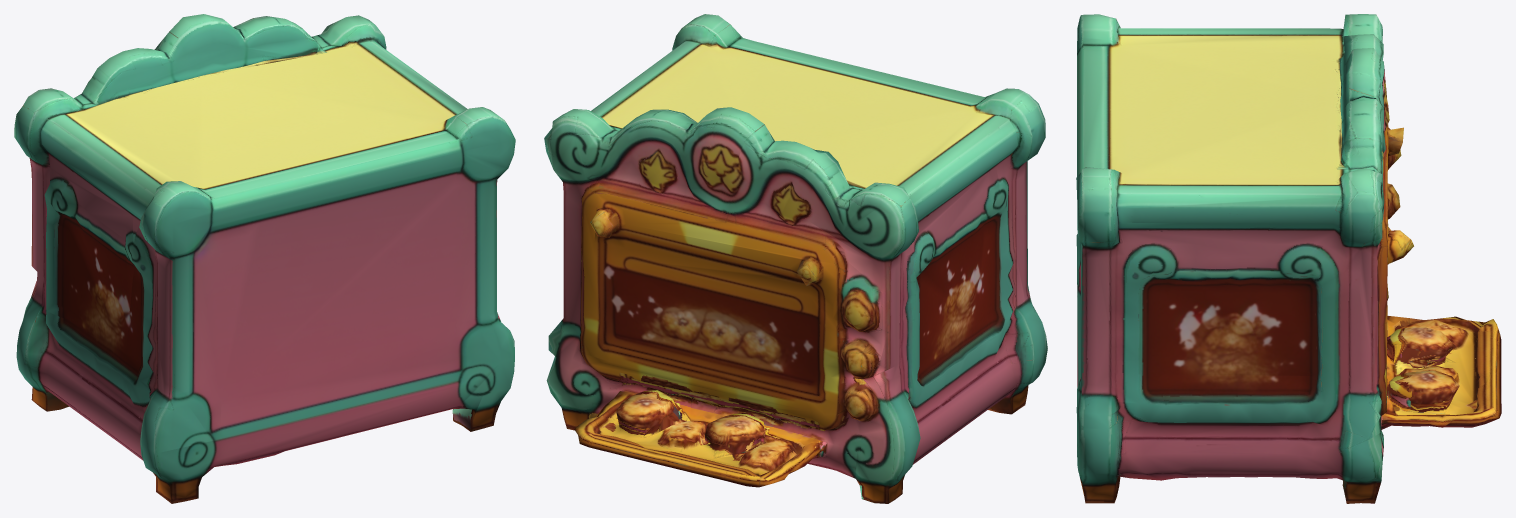
The model's file is oven.fbx.
The picture shows the model from 3 angles, left to right: view 1: azimuth 30°, elevation 25°; view 2: azimuth 150°, elevation 25°; view 3: azimuth 270°, elevation 25°; orthographic projection. The views are drawn at different scales.
Visible parts, largest first — view 1: oven.001; view 2: oven.001; view 3: oven.001.
Part boxes in pixels (bbox=[...]): oven.001: bbox=[14, 14, 515, 503]; oven.001: bbox=[544, 14, 1047, 503]; oven.001: bbox=[1076, 14, 1501, 503].
Bounding box in the file's own units: 1.58 × 1.52 × 1.45.
1 material, 1 textured.
